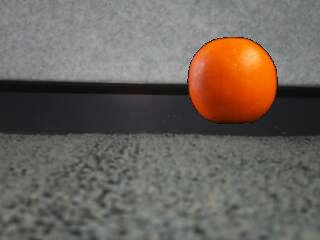Pumpkin: (187, 37, 277, 125)
